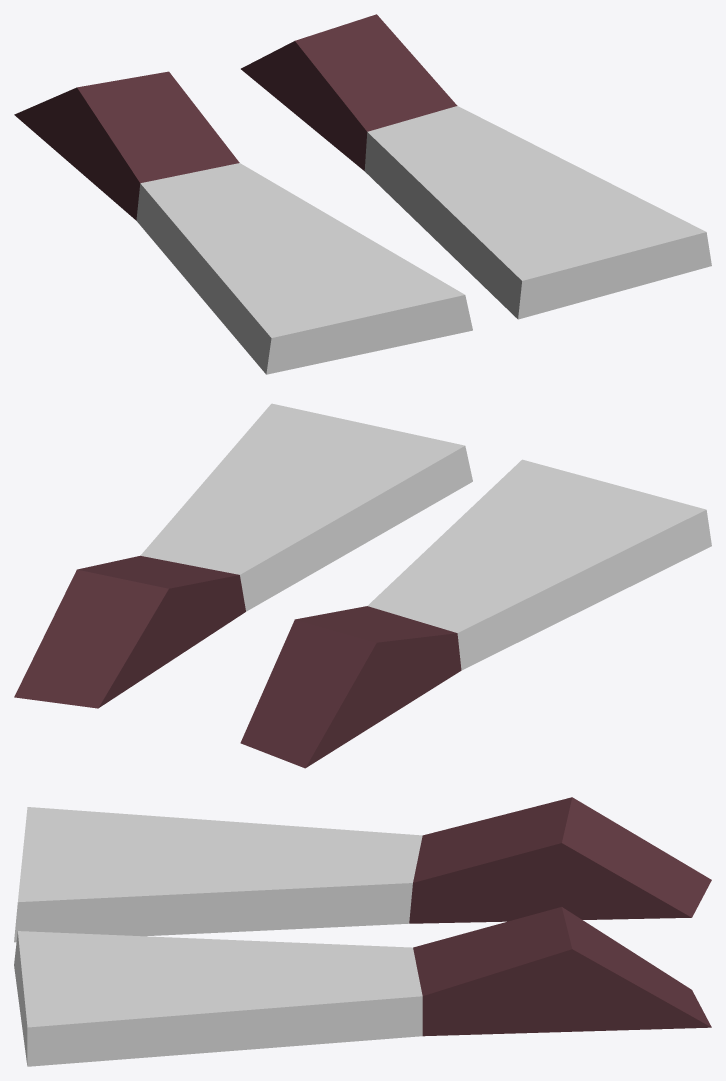
The model's file is scuba-fins.fbx.
3 views of the same model, one above another, from view 1: azimuth 30°, elevation 25°; view 2: azimuth 150°, elevation 25°; view 3: azimuth 270°, elevation 25° (orthographic). The views are drawn at different scales.
Parts seen in each view (by area): view 1: scuba-fins; view 2: scuba-fins; view 3: scuba-fins.
Part boxes in pixels (x1=…): scuba-fins: x1=14, y1=14, x2=711, y2=374; scuba-fins: x1=14, y1=403, x2=711, y2=768; scuba-fins: x1=14, y1=797, x2=711, y2=1066.
Bounding box in the file's own units: 0.4517 × 0.0752 × 0.5897.
